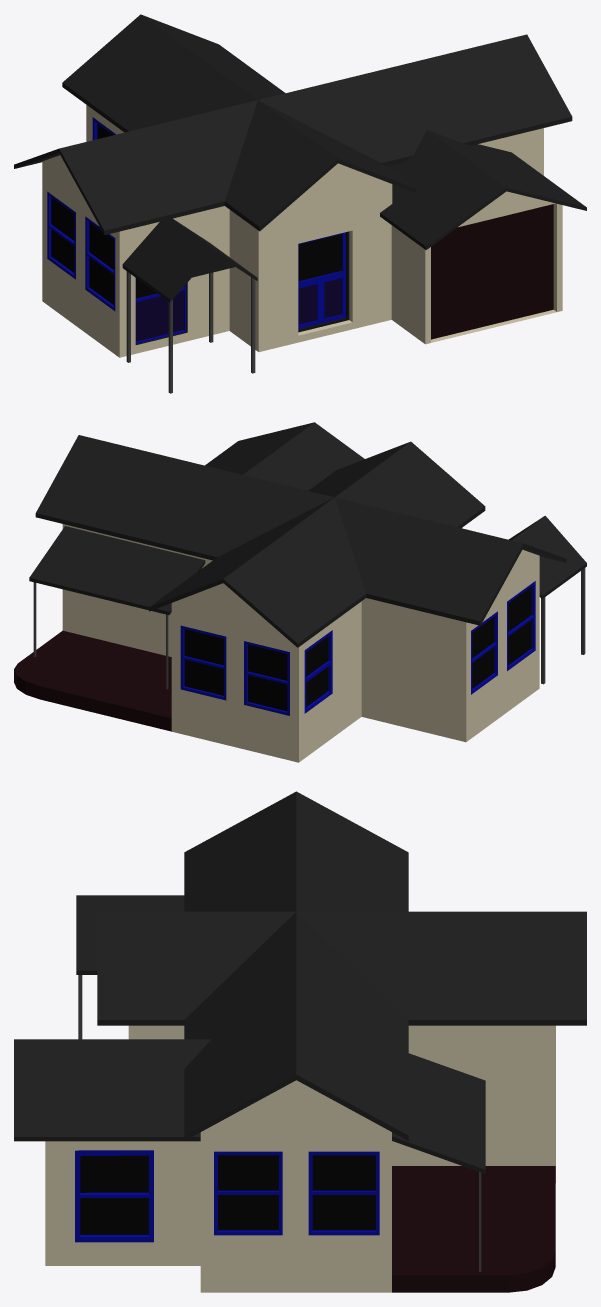
The model's file is House_5.fbx.
3 renders of one model, top to bottom at view 1: azimuth 30°, elevation 25°; view 2: azimuth 150°, elevation 25°; view 3: azimuth 270°, elevation 25°, orthographic. The views are drawn at different scales.
Parts seen in each view (by area): view 1: Cube.003; view 2: Cube.003; view 3: Cube.003.
Boxes of the visible parts, x1,y1,x2,y2 form: Cube.003: (14, 14, 586, 393); Cube.003: (14, 422, 586, 762); Cube.003: (14, 791, 586, 1292).
Bounding box in the file's own units: 1001 × 381 × 856.
